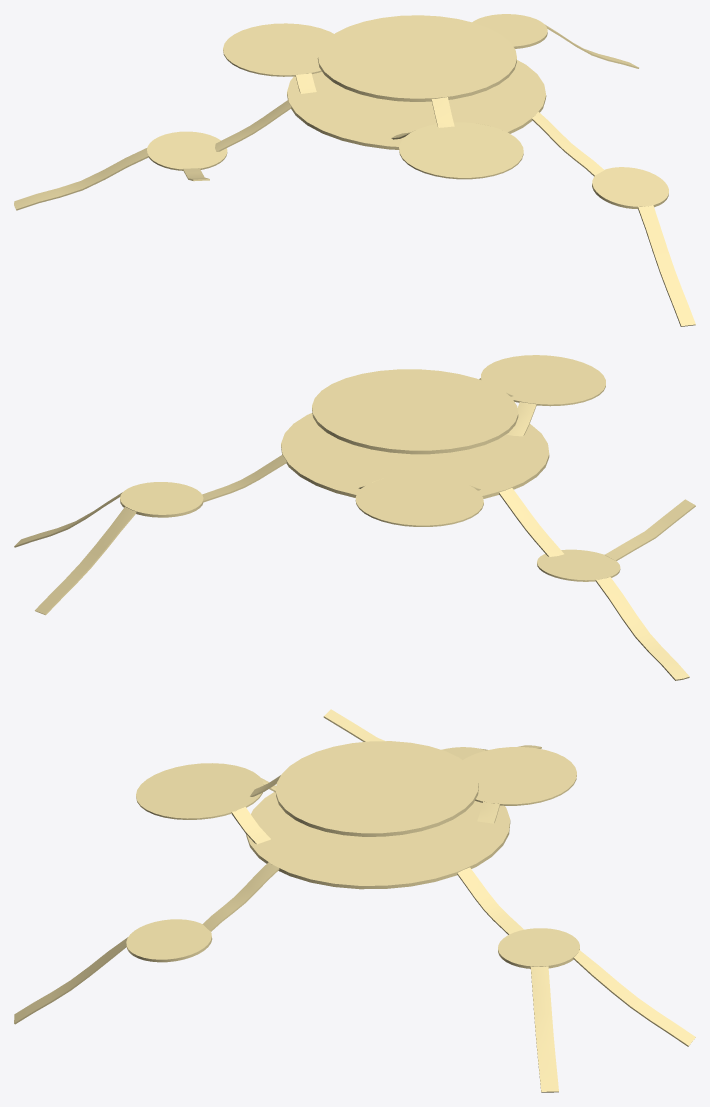
Rendered from platform.fbx.
The picture shows the model from 3 angles, top to bottom: view 1: azimuth 30°, elevation 25°; view 2: azimuth 150°, elevation 25°; view 3: azimuth 270°, elevation 25°; orthographic projection. The views are drawn at different scales.
Parts seen in each view (by area): view 1: Cylinder, Cylinder__9_, Cylinder__10_, Cylinder__10__1, Cylinder__4_, Cylinder__1_, Cube__9_, Cylinder__2_, Cube_1, Cube__8_, Cube__2_, Cube__13_; view 2: Cylinder, Cylinder__9_, Cylinder__10__1, Cylinder__10_, Cylinder__2_, Cylinder__1_, Cube_1, Cube__6_, Cube__2_, Cube__1_, Cube__4_, Cube__7_ (+1 smaller); view 3: Cylinder, Cylinder__9_, Cylinder__10_, Cylinder__10__1, Cylinder__4_, Cylinder__2_, Cube__7_, Cube__6_, Cube__9_, Cube__4_, Cube__8_, Cube__10_ (+1 smaller).
Part boxes in pixels (x1=…): Cylinder: x1=317, y1=15, x2=516, y2=101; Cylinder__9_: x1=287, y1=60, x2=546, y2=149; Cylinder__10_: x1=399, y1=122, x2=523, y2=179; Cylinder__10__1: x1=223, y1=23, x2=333, y2=76; Cylinder__4_: x1=592, y1=167, x2=668, y2=208; Cylinder__1_: x1=147, y1=131, x2=227, y2=170; Cube__9_: x1=638, y1=205, x2=695, y2=326; Cylinder__2_: x1=472, y1=14, x2=547, y2=48; Cube_1: x1=14, y1=148, x2=148, y2=210; Cube__8_: x1=532, y1=112, x2=604, y2=176; Cube__2_: x1=215, y1=100, x2=291, y2=151; Cube__13_: x1=431, y1=97, x2=454, y2=127; Cylinder: x1=312, y1=369, x2=518, y2=454; Cylinder__9_: x1=281, y1=413, x2=549, y2=498; Cylinder__10__1: x1=355, y1=475, x2=483, y2=526; Cylinder__10_: x1=481, y1=355, x2=605, y2=406; Cylinder__2_: x1=120, y1=482, x2=203, y2=517; Cylinder__1_: x1=537, y1=549, x2=620, y2=581; Cube_1: x1=595, y1=577, x2=689, y2=680; Cube__6_: x1=35, y1=506, x2=136, y2=615; Cube__2_: x1=499, y1=488, x2=563, y2=556; Cube__1_: x1=605, y1=499, x2=695, y2=560; Cube__4_: x1=202, y1=455, x2=286, y2=502; Cube__7_: x1=14, y1=492, x2=122, y2=547; Cylinder: x1=275, y1=741, x2=478, y2=836; Cylinder__9_: x1=246, y1=792, x2=510, y2=889; Cylinder__10_: x1=136, y1=763, x2=263, y2=819; Cylinder__10__1: x1=463, y1=747, x2=576, y2=805; Cylinder__4_: x1=126, y1=919, x2=212, y2=962; Cylinder__2_: x1=498, y1=928, x2=579, y2=968; Cube__7_: x1=530, y1=966, x2=558, y2=1092; Cube__6_: x1=573, y1=950, x2=695, y2=1046; Cube__9_: x1=14, y1=937, x2=128, y2=1024; Cube__4_: x1=457, y1=867, x2=523, y2=934; Cube__8_: x1=202, y1=862, x2=279, y2=931; Cube__10_: x1=231, y1=807, x2=270, y2=844.
Bounding box in the file's own units: 290 × 75.75 × 255.
